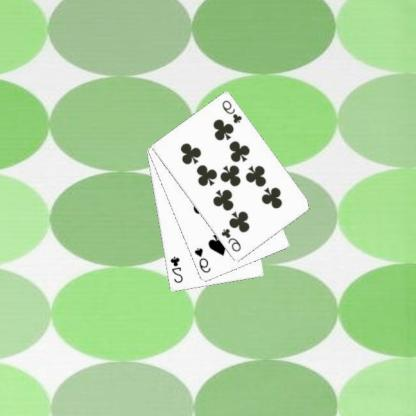2C: (169, 254, 185, 284)
6S: (193, 245, 214, 275)
9C: (220, 226, 245, 254), (221, 98, 245, 125)
